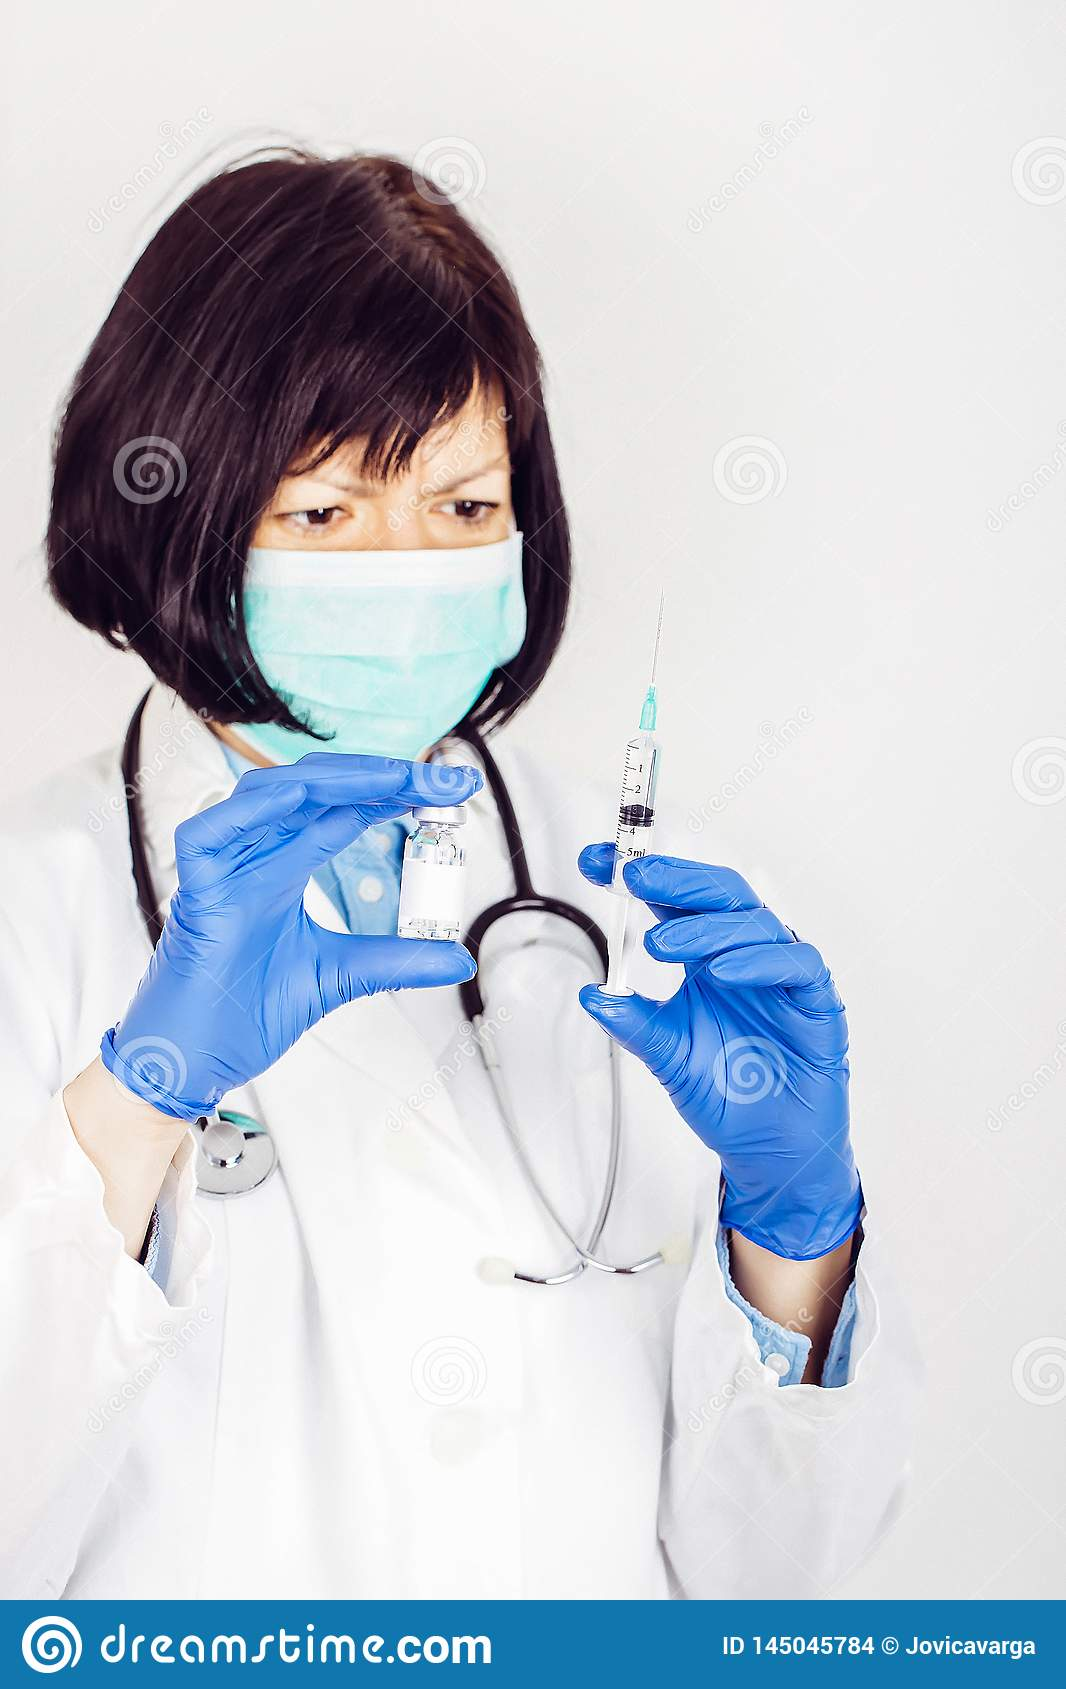mask: (212, 539, 531, 798)
